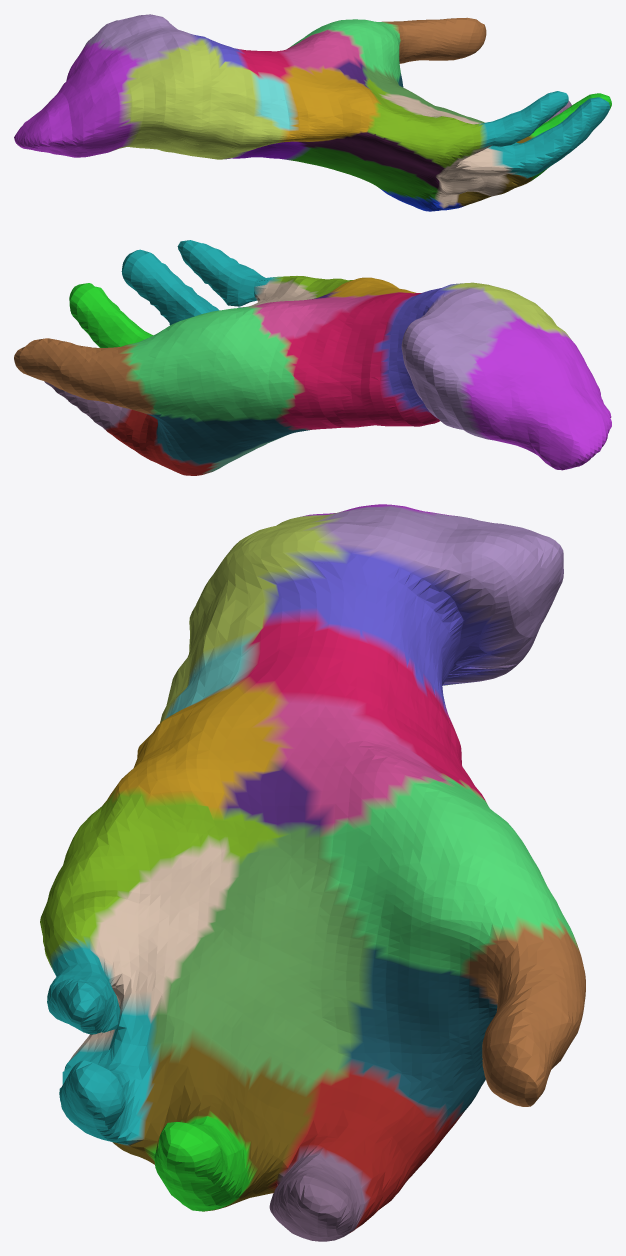
Rendered from fg-00030-geo-color.obj.
3 renders of one model, top to bottom at view 1: azimuth 30°, elevation 25°; view 2: azimuth 150°, elevation 25°; view 3: azimuth 270°, elevation 25°, orthographic. The views are drawn at different scales.
Size of the model in its own units: 0.4707 by 0.1812 by 0.2112.
